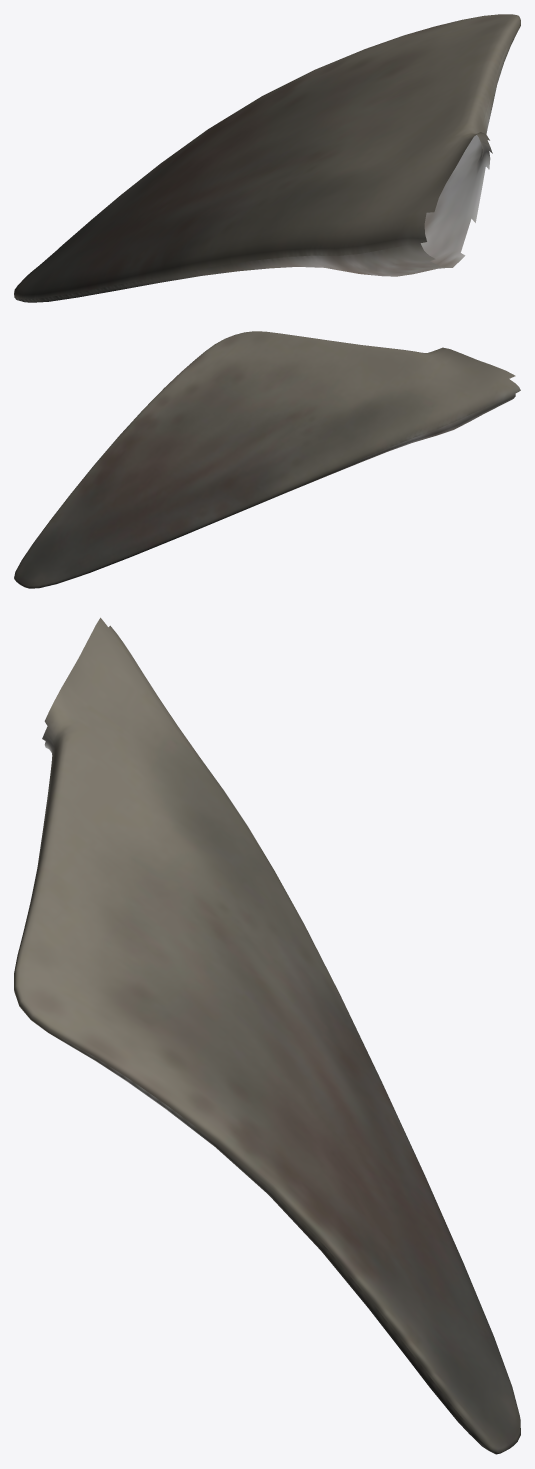
The model's file is aletader1.obj.
3 renders of one model, top to bottom at view 1: azimuth 90°, elevation 25°; view 2: azimuth 150°, elevation 25°; view 3: azimuth 270°, elevation 25°, orthographic. The views are drawn at different scales.
Visible parts, largest first — view 1: polySurface3 polySurface2 _Shark_v2_L1:_Shark_v2; view 2: polySurface3 polySurface2 _Shark_v2_L1:_Shark_v2; view 3: polySurface3 polySurface2 _Shark_v2_L1:_Shark_v2.
Part boxes in pixels (<box>): polySurface3 polySurface2 _Shark_v2_L1:_Shark_v2: <box>14,14,520,302</box>; polySurface3 polySurface2 _Shark_v2_L1:_Shark_v2: <box>14,331,520,588</box>; polySurface3 polySurface2 _Shark_v2_L1:_Shark_v2: <box>14,617,520,1454</box>.
Size of the model in its own units: 1.03 by 0.5527 by 0.5565.
Materials: 1 (1 with a texture image).
